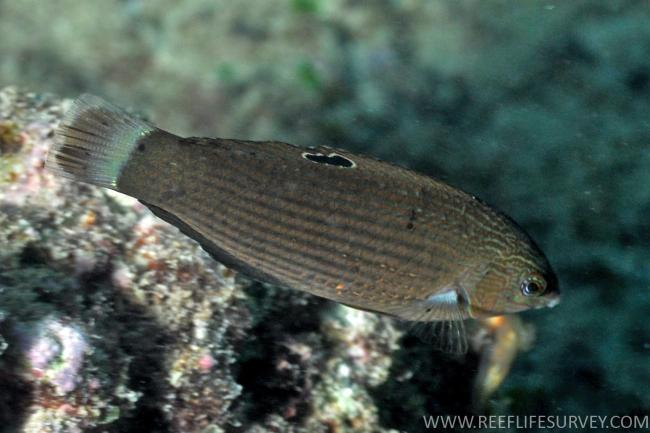fish: (46, 92, 564, 322)
